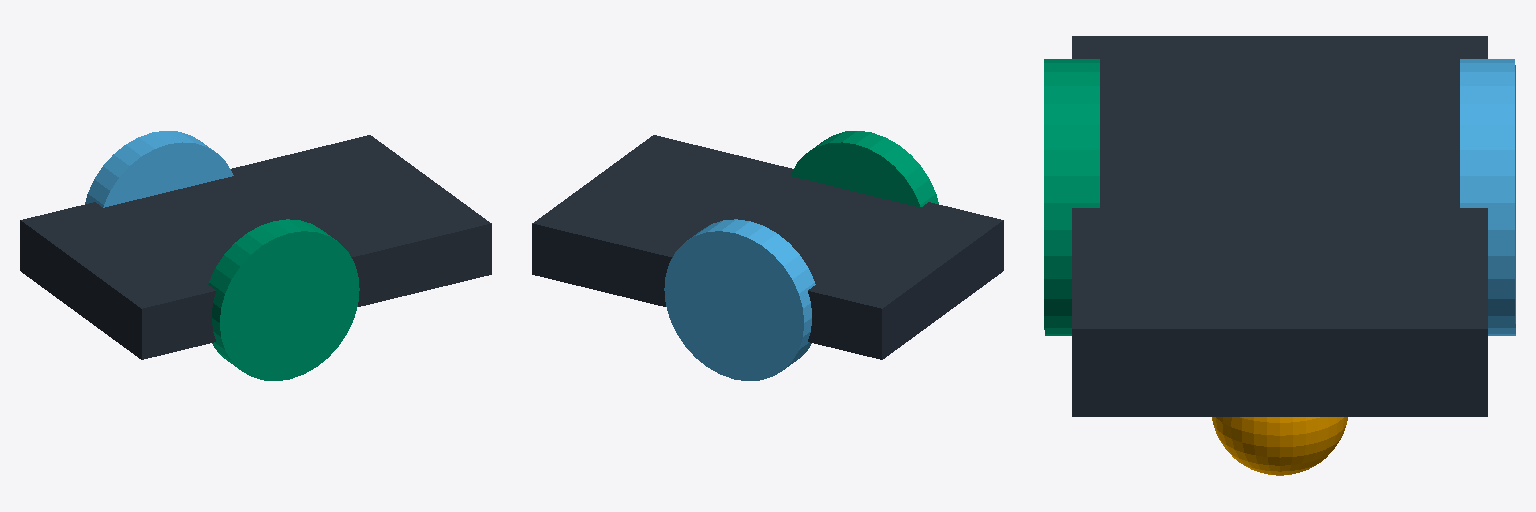
The robot description file, URDF, robot "m2wr":
<?xml version="1.0" ?>
<robot name="m2wr" xmlns:xacro="http://www.ros.org/wiki/xacro">
  <material name="black">
    <color rgba="0.0 0.0 0.0 1.0"/>
  </material>
  <material name="blue">
    <color rgba="0.203125 0.23828125 0.28515625 1.0"/>
  </material>
  <material name="green">
    <color rgba="0.0 0.8 0.0 1.0"/>
  </material>
  <material name="grey">
    <color rgba="0.2 0.2 0.2 1.0"/>
  </material>
  <material name="orange">
   <color rgba="1.0 0.423529411765 0.0392156862745 1.0"/>
  </material>
  <material name="brown">
    <color rgba="0.870588235294 0.811764705882 0.764705882353 1.0"/>
  </material>
  <material name="red">
    <color rgba="0.80078125 0.12890625 0.1328125 1.0"/>
  </material>
  <material name="white">
    <color rgba="1.0 1.0 1.0 1.0"/>
  </material>
  <gazebo reference="link_chassis">
    <material>Gazebo/Orange</material>
  
  </gazebo>
  <gazebo reference="link_left_wheel">
    <material>Gazebo/Blue</material>
  </gazebo>
  <gazebo reference="link_right_wheel">
    <material>Gazebo/Blue</material>
  </gazebo>

  <gazebo>
    <plugin filename="libgazebo_ros_diff_drive.so" name="differential_drive_controller">
      <legacyMode>false</legacyMode>
      <alwaysOn>true</alwaysOn>
      <updateRate>20</updateRate>
      <leftJoint>joint_left_wheel</leftJoint>
      <rightJoint>joint_right_wheel</rightJoint>
      <wheelSeparation>0.2</wheelSeparation>
      <wheelDiameter>0.2</wheelDiameter>
      <torque>0.1</torque>
      <commandTopic>cmd_vel</commandTopic>
      <odometryTopic>odom</odometryTopic>
      <odometryFrame>odom</odometryFrame>
      <robotBaseFrame>link_chassis</robotBaseFrame>
    </plugin>
  </gazebo>

  <link name="link_chassis">
    <!-- pose and inertial -->
    <pose>0 0 0.1 0 0 0</pose>
    <inertial>
      <mass value="5"/>
      <origin rpy="0 0 0" xyz="0 0 0.1"/>
      <inertia ixx="0.0395416666667" ixy="0" ixz="0" iyy="0.106208333333" iyz="0" izz="0.106208333333"/>
    </inertial>
    <!-- body -->
    <collision name="collision_chassis">
      <geometry>
        <box size="0.5 0.3 0.07"/>
      </geometry>
    </collision>
    <visual>
    <origin rpy="0 0 0" xyz="0 0 0"/>
      <geometry>
        <box size="0.5 0.3 0.07"/>
      </geometry>
      <material name="blue"/>
    </visual>
    <!-- caster front -->
    <collision name="caster_front_collision">
      <origin rpy=" 0 0 0" xyz="0.35 0 -0.05"/>
      <geometry>
        <sphere radius="0.05"/>
      </geometry>
      <surface>
        <friction>
          <ode>
            <mu>0</mu>
            <mu2>0</mu2>
            <slip1>1.0</slip1>
            <slip2>1.0</slip2>
          </ode>
        </friction>
      </surface>
    </collision>
    <visual name="caster_front_visual">
      <origin rpy=" 0 0 0" xyz="0.2 0 -0.05"/>
      <geometry>
        <sphere radius="0.05"/>
      </geometry>
    </visual>
  </link>

  <link name="link_right_wheel">
    <inertial>
      <mass value="0.2"/>
      <origin rpy="0 1.5707 1.5707" xyz="0 0 0"/>
      <inertia ixx="0.000526666666667" ixy="0" ixz="0" iyy="0.000526666666667" iyz="0" izz="0.001"/>
    </inertial>
    <collision name="link_right_wheel_collision">
      <origin rpy="0 1.5707 1.5707" xyz="0 0 0"/>
      <geometry>
        <cylinder length="0.04" radius="0.1"/>
      </geometry>
      </collision>
    <visual name="link_right_wheel_visual">
      <origin rpy="0 1.5707 1.5707" xyz="0 0 0"/>
      <geometry>
        <cylinder length="0.04" radius="0.1"/>
      </geometry>
    </visual>
  </link>

  <joint name="joint_right_wheel" type="continuous">
    <origin rpy="0 0 0" xyz="-0.05 0.15 0"/>
    <child link="link_right_wheel"/>
    <parent link="link_chassis"/>
    <axis rpy="0 0 0" xyz="0 1 0"/>
    <limit effort="10000" velocity="1000"/>
    <joint_properties damping="1.0" friction="1.0"/>
  </joint>

  <link name="link_left_wheel">
    <inertial>
      <mass value="0.2"/>
      <origin rpy="0 1.5707 1.5707" xyz="0 0 0"/>
      <inertia ixx="0.000526666666667" ixy="0" ixz="0" iyy="0.000526666666667" iyz="0" izz="0.001"/>
    </inertial>
    <collision name="link_left_wheel_collision">
      <origin rpy="0 1.5707 1.5707" xyz="0 0 0"/>
      <geometry>
        <cylinder length="0.04" radius="0.1"/>
      </geometry>
      </collision>
    <visual name="link_left_wheel_visual">
      <origin rpy="0 1.5707 1.5707" xyz="0 0 0"/>
      <geometry>
        <cylinder length="0.04" radius="0.1"/>
      </geometry>
    </visual>
  </link>

  <joint name="joint_left_wheel" type="continuous">
    <origin rpy="0 0 0" xyz="-0.05 -0.15 0"/>
    <child link="link_left_wheel"/>
    <parent link="link_chassis"/>
    <axis rpy="0 0 0" xyz="0 1 0"/>
    <limit effort="10000" velocity="1000"/>
    <joint_properties damping="1.0" friction="1.0"/>
  </joint>
</robot>

--- What the picture shows (computed from the rendered views, not written in the file) ---
3 views of the same robot in one strip: view 1: azimuth 30°, elevation 25°; view 2: azimuth 150°, elevation 25°; view 3: azimuth 270°, elevation 25° (orthographic).
Robot: m2wr — 3 links, 2 joints (2 continuous); root link link_chassis; default pose: all joints at 0.
Visible links, largest first — view 1: link_chassis, link_left_wheel, link_right_wheel; view 2: link_chassis, link_right_wheel, link_left_wheel; view 3: link_chassis, link_right_wheel, link_left_wheel.
Link boxes in pixels (<box>): link_chassis: <box>20,135,491,359</box>; link_left_wheel: <box>208,219,359,380</box>; link_right_wheel: <box>85,131,233,207</box>; link_chassis: <box>532,135,1003,359</box>; link_right_wheel: <box>664,219,815,380</box>; link_left_wheel: <box>790,131,938,207</box>; link_chassis: <box>1072,36,1487,475</box>; link_right_wheel: <box>1460,59,1515,335</box>; link_left_wheel: <box>1044,59,1099,335</box>.
Size in the robot's own frame: 0.5 by 0.34 by 0.2 metres.
Geometry: primitives only (box / cylinder / sphere), no mesh files.